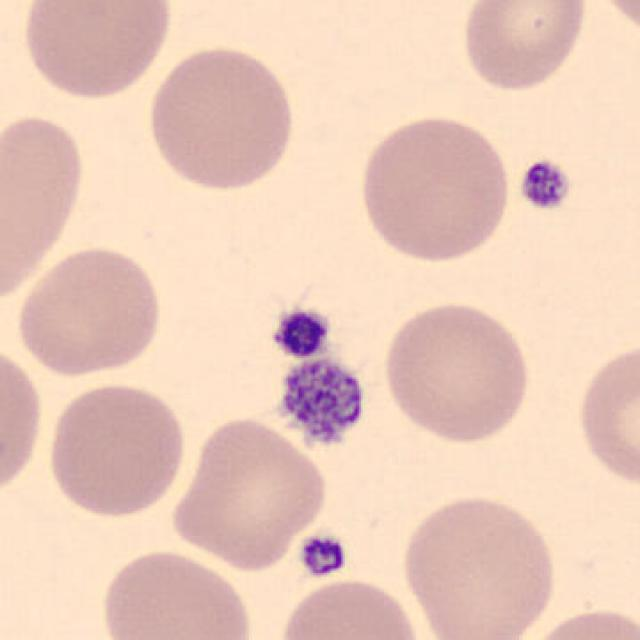Platelets: (272, 354, 370, 452), (268, 305, 334, 360), (516, 155, 574, 213), (297, 529, 350, 580)
RBC: (167, 413, 333, 573), (354, 110, 516, 264), (396, 488, 560, 640), (142, 41, 299, 196), (379, 296, 535, 446), (11, 241, 165, 381), (43, 377, 190, 522), (0, 106, 89, 307), (16, 0, 176, 102), (96, 545, 258, 640), (455, 0, 592, 95), (572, 337, 638, 492), (274, 575, 425, 640), (0, 338, 46, 501), (518, 603, 638, 640), (588, 0, 639, 42)
